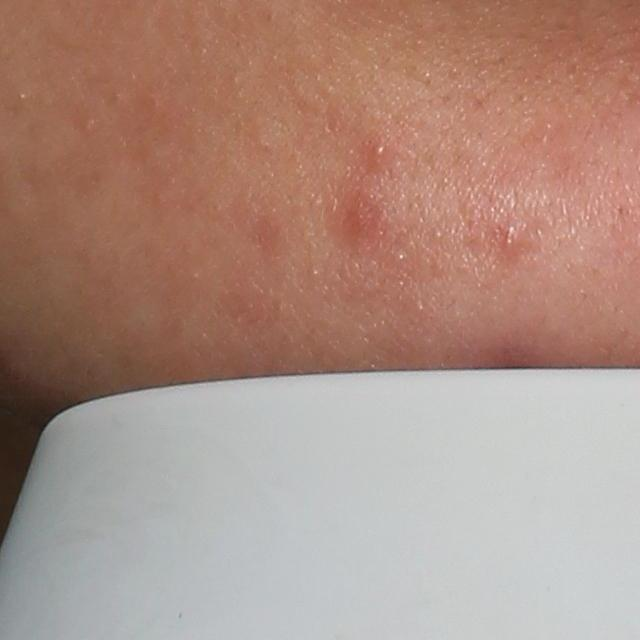papule: (496, 219, 532, 257), (365, 136, 395, 170)
